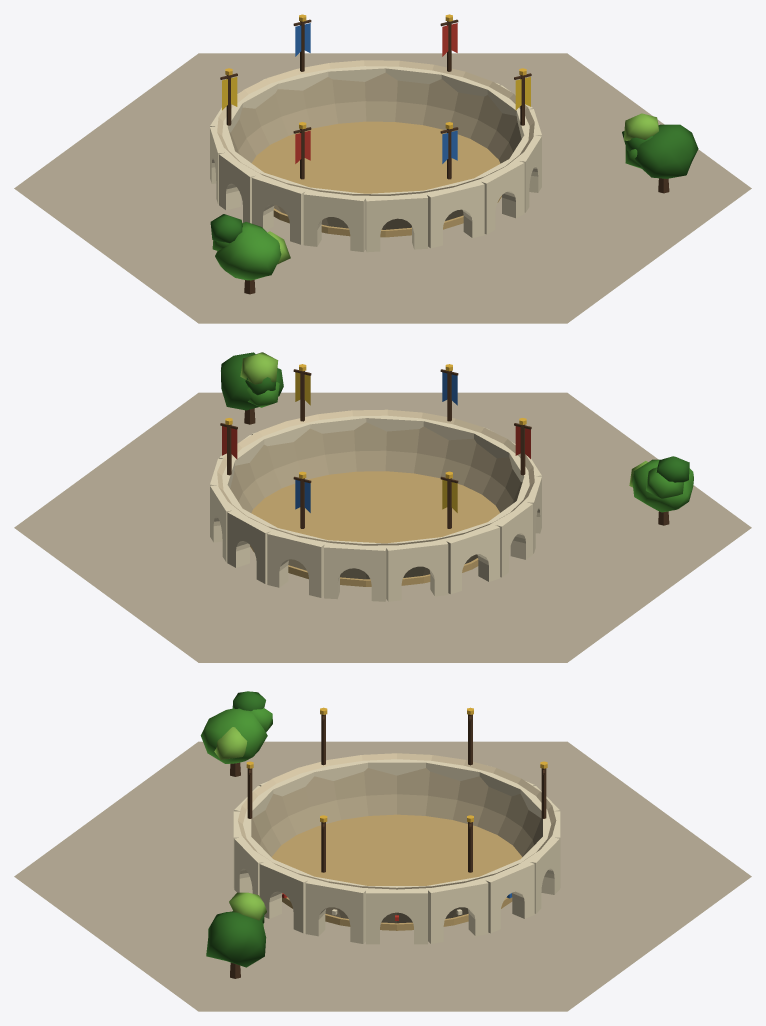
Rendered from district_entertainment_complex_1.fbx.
3 views of the same model, one above another, from view 1: azimuth 30°, elevation 25°; view 2: azimuth 150°, elevation 25°; view 3: azimuth 270°, elevation 25° (orthographic).
Parts seen in each view (by area): view 1: district_entertainment_complex_1; view 2: district_entertainment_complex_1; view 3: district_entertainment_complex_1.
Boxes of the visible parts, <box> form: district_entertainment_complex_1: <box>14,14,751,323</box>; district_entertainment_complex_1: <box>14,352,751,662</box>; district_entertainment_complex_1: <box>14,691,751,1011</box>.
Bounding box in the file's own units: 182 × 35.6 × 210.
